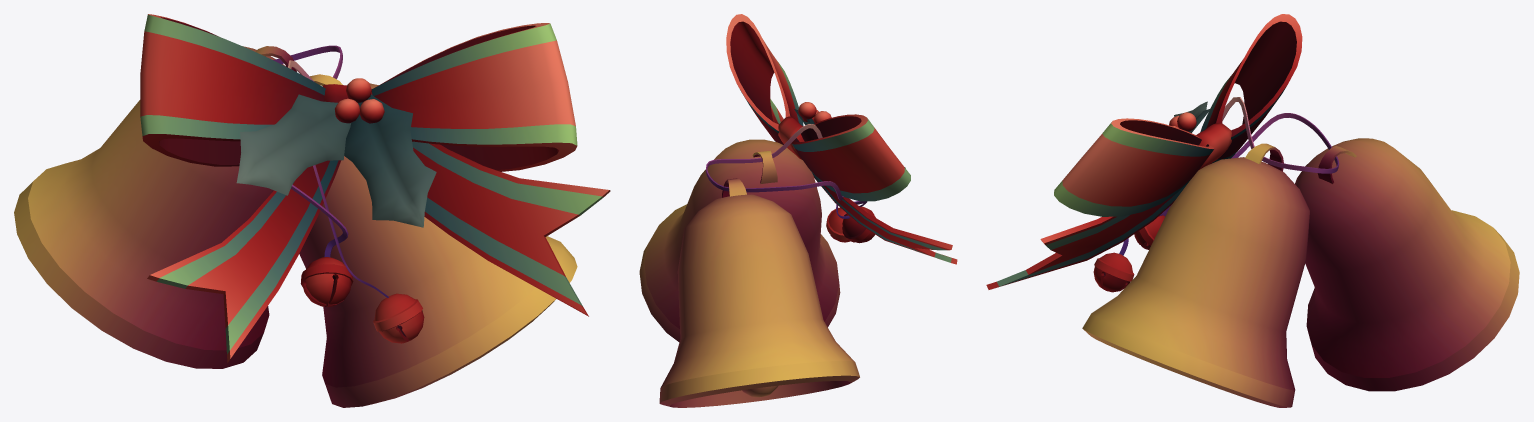
The model's file is bell-1.glb.
3 renders of one model, left to right at view 1: azimuth 30°, elevation 25°; view 2: azimuth 150°, elevation 25°; view 3: azimuth 270°, elevation 25°, orthographic. The views are drawn at different scales.
Parts seen in each view (by area): view 1: Bell003_JingleBells_0; view 2: Bell003_JingleBells_0; view 3: Bell003_JingleBells_0.
Boxes of the visible parts, left/top/right/bottom form: Bell003_JingleBells_0: left=14, top=14, right=610, bottom=407; Bell003_JingleBells_0: left=639, top=14, right=957, bottom=407; Bell003_JingleBells_0: left=986, top=14, right=1519, bottom=407.
Size of the model in its own units: 2.62 by 2.4 by 3.66.
Materials: 1 (1 with a texture image).
